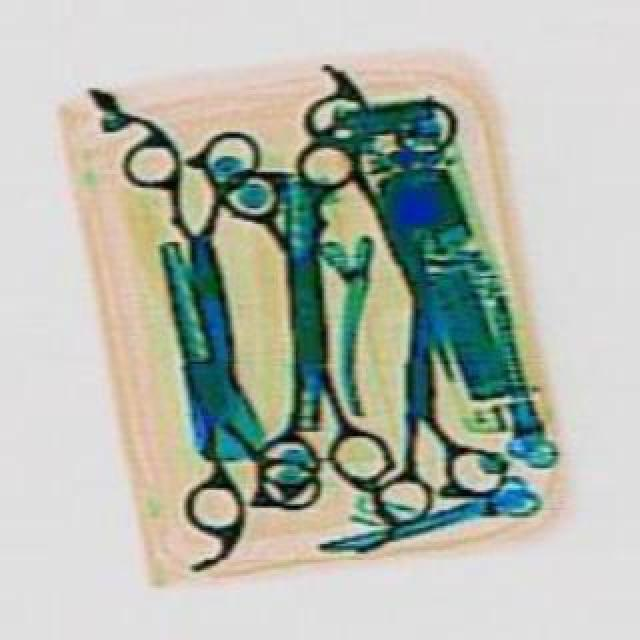pliers: (84, 224, 320, 540), (208, 134, 382, 394), (226, 240, 392, 492), (114, 124, 282, 372), (350, 272, 502, 524)
